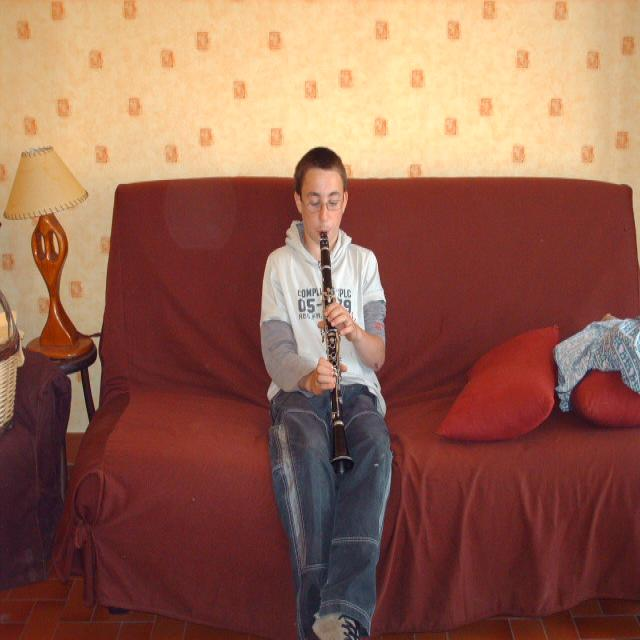clarinet: (314, 231, 355, 474)
